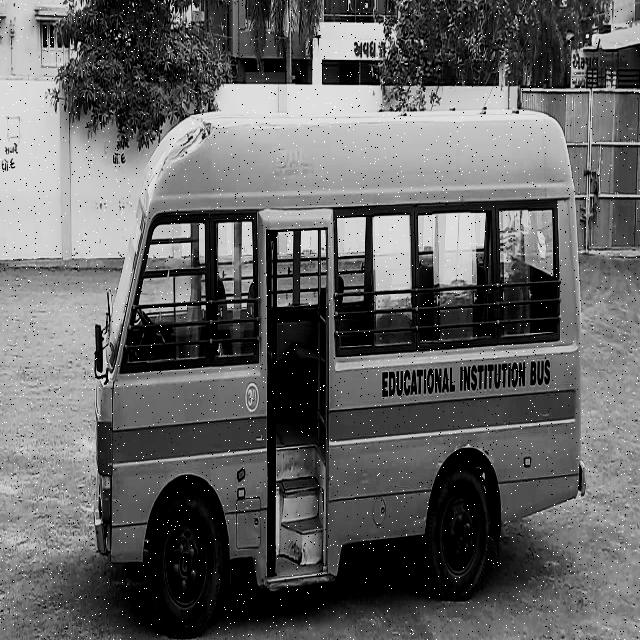Bus: (81, 91, 590, 624)
